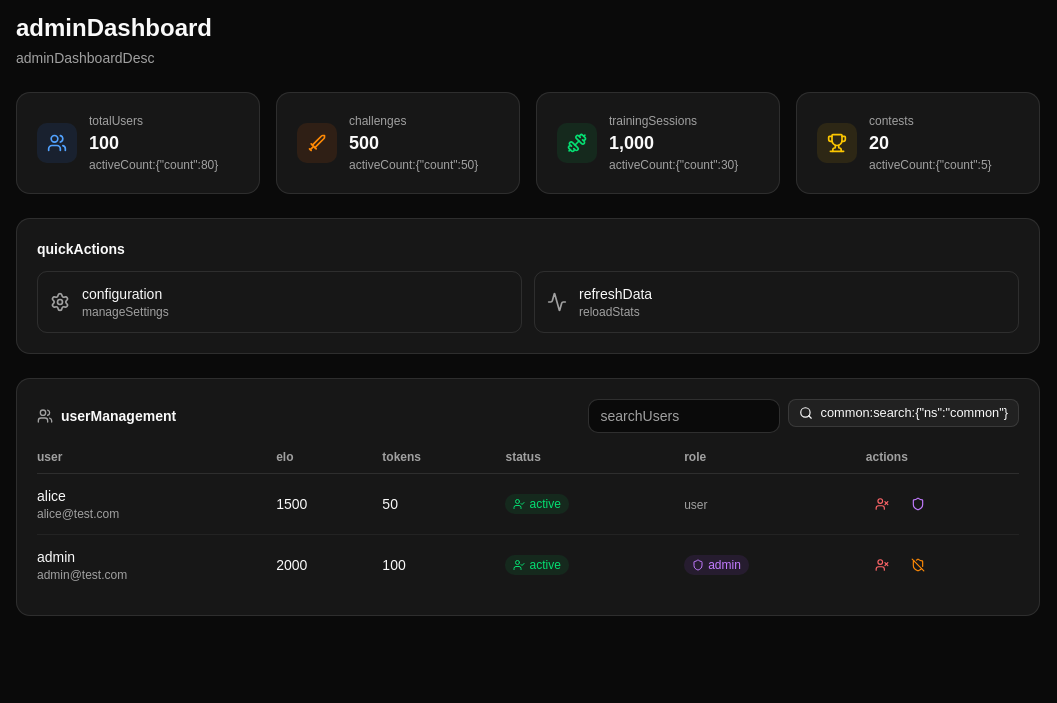
AdminOverviewPage › shows error when toggle admin fails
Expected: the text "alice" is shown, left=37, top=488, right=66, bottom=504
Click the button named "grantAdmin" at (918, 504), box left=902, top=490, right=934, bottom=518
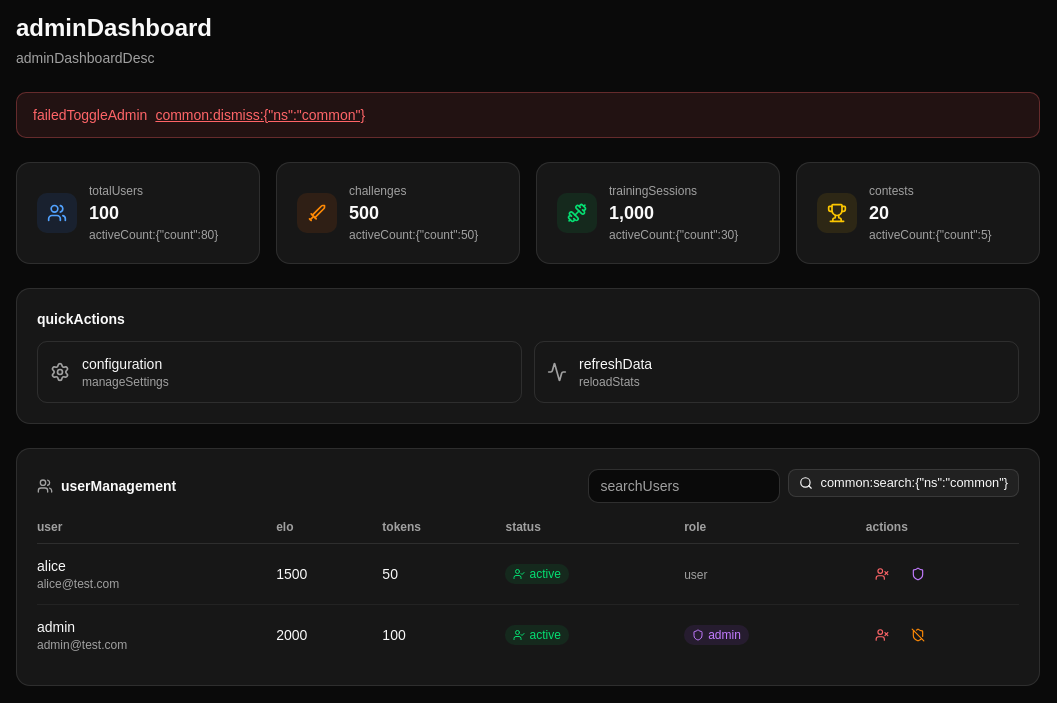
Result: the text "failedToggleAdmin" is shown at left=33, top=107, right=147, bottom=123
